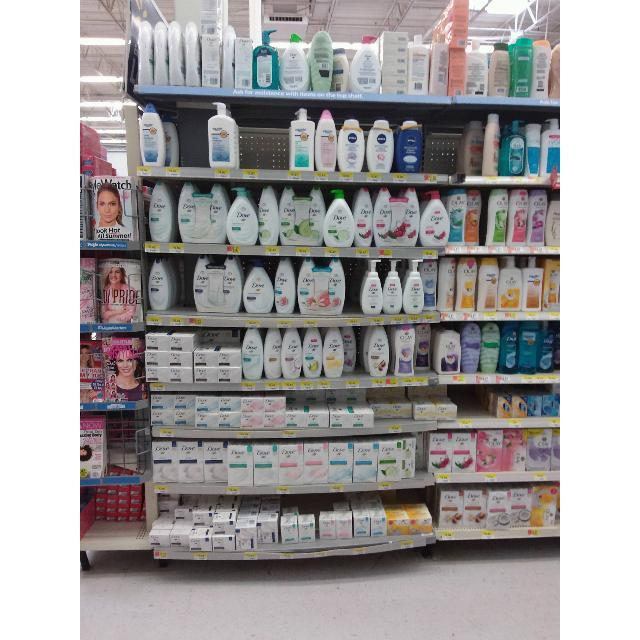empty: (239, 99, 289, 169), (424, 104, 456, 174), (180, 94, 208, 168), (172, 254, 194, 316), (457, 385, 487, 419), (346, 257, 360, 317)
front: (95, 520, 147, 540), (374, 418, 414, 424), (342, 372, 370, 380), (414, 369, 436, 376), (415, 468, 427, 478), (423, 310, 439, 314)
